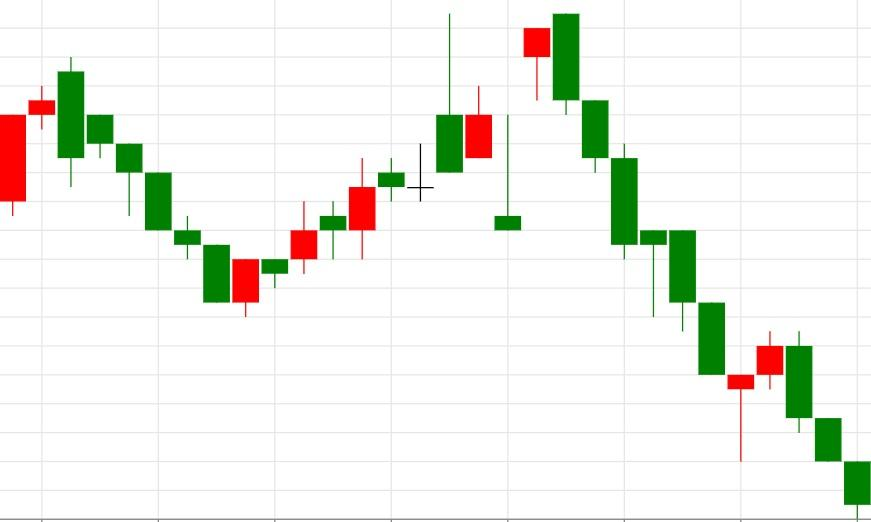three_black_crows_fall: (493, 13, 638, 259), (726, 329, 871, 522)
